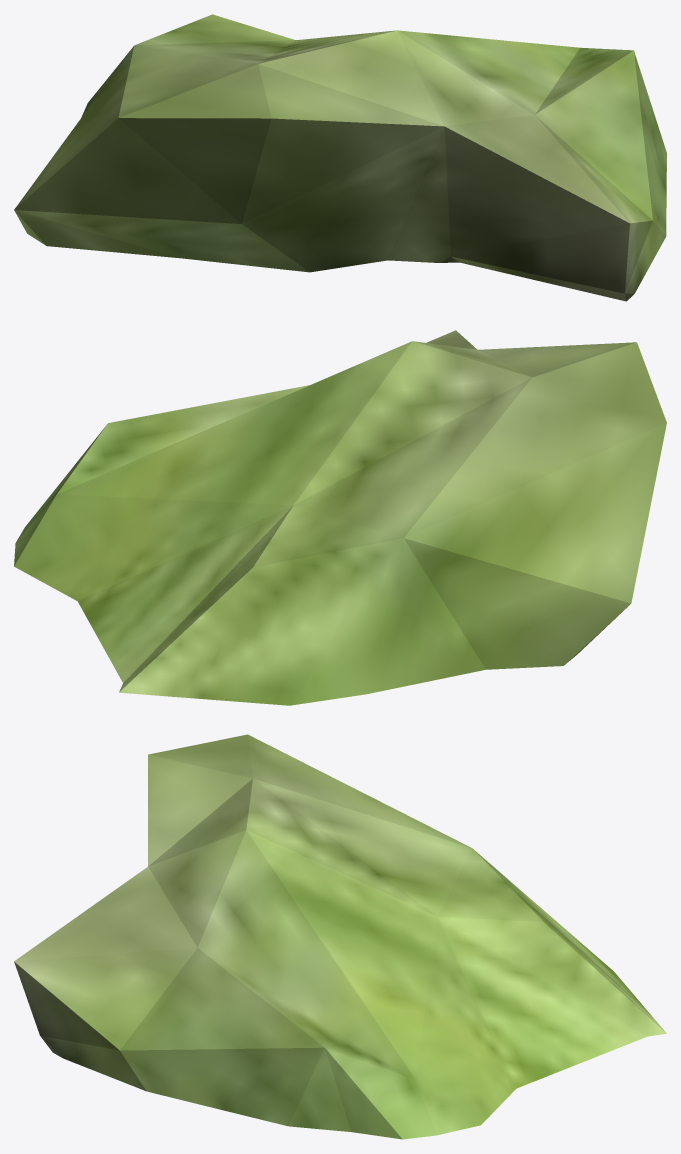
3 views of the same model, one above another, from view 1: azimuth 30°, elevation 25°; view 2: azimuth 150°, elevation 25°; view 3: azimuth 270°, elevation 25° (orthographic). The views are drawn at different scales.
Size of the model in its own units: 3.42 by 1.1 by 3.66.
Materials: 1 (1 with a texture image).
